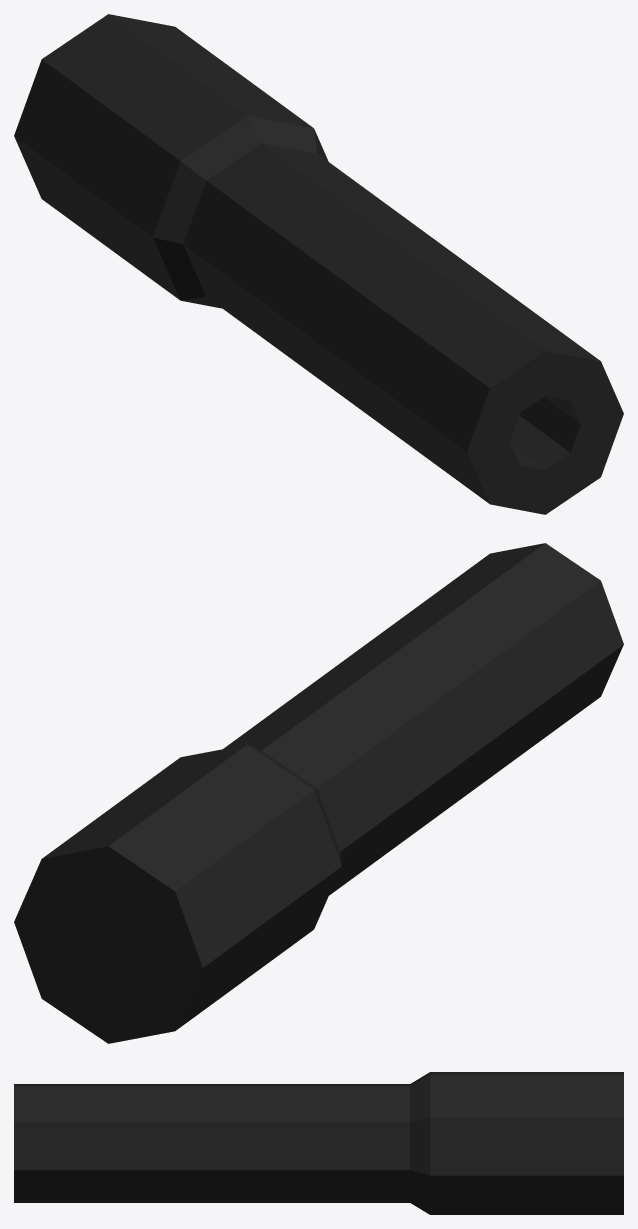
The model's file is Silence.fbx.
The picture shows the model from 3 angles, top to bottom: view 1: azimuth 30°, elevation 25°; view 2: azimuth 150°, elevation 25°; view 3: azimuth 270°, elevation 25°; orthographic projection. The views are drawn at different scales.
Parts seen in each view (by area): view 1: ar1(automatic rifle); view 2: ar1(automatic rifle); view 3: ar1(automatic rifle).
Boxes of the visible parts, x1=… form: ar1(automatic rifle): x1=14, y1=14, x2=623, y2=514; ar1(automatic rifle): x1=14, y1=543, x2=623, y2=1043; ar1(automatic rifle): x1=14, y1=1072, x2=623, y2=1214.
Bounding box in the file's own units: 9.88 × 9.88 × 39.59.
